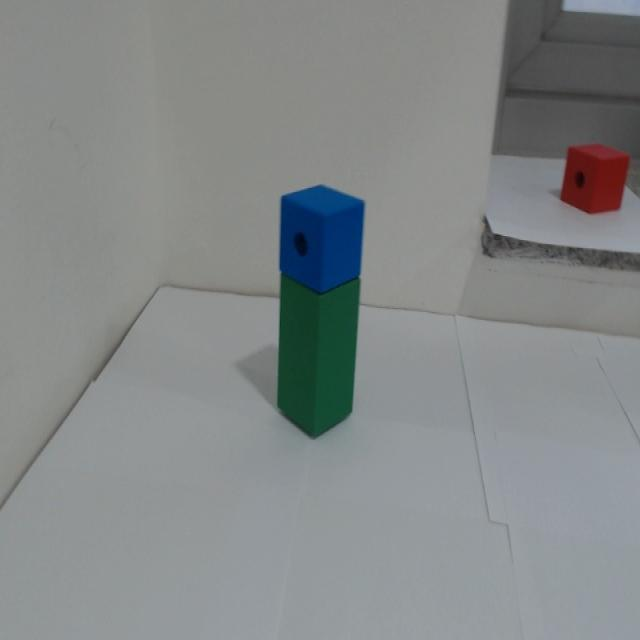cube: (266, 173, 383, 301)
